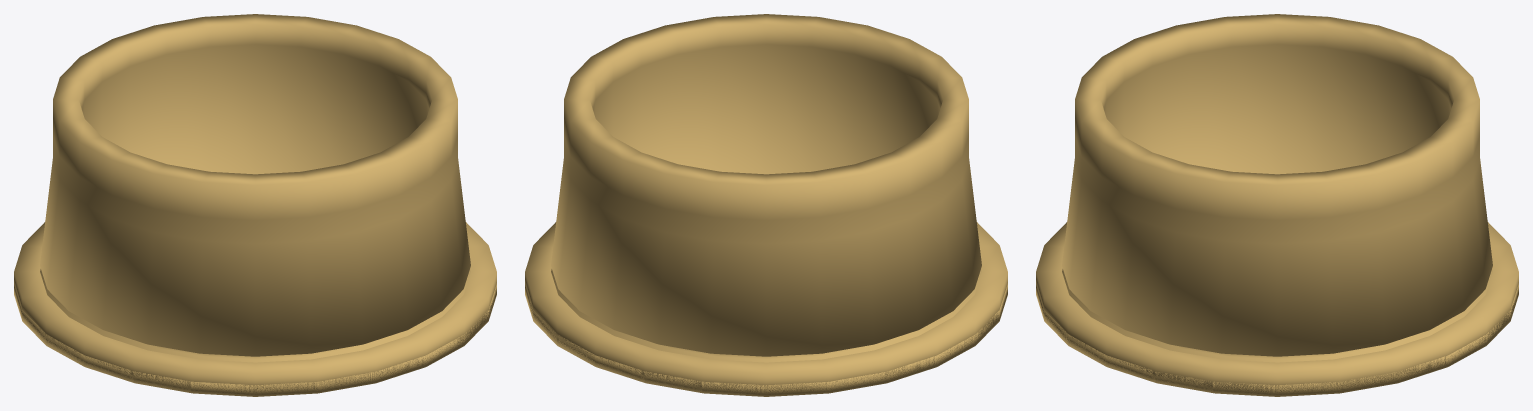
The model's file is pistol-case.glb.
3 renders of one model, left to right at view 1: azimuth 30°, elevation 25°; view 2: azimuth 150°, elevation 25°; view 3: azimuth 270°, elevation 25°, orthographic.
Visible parts, largest first — view 1: open-case-body, case-head; view 2: open-case-body, case-head; view 3: open-case-body, case-head.
Part boxes in pixels (bbox=[...]): open-case-body: bbox=[14, 14, 496, 396]; case-head: bbox=[14, 222, 496, 396]; open-case-body: bbox=[525, 14, 1007, 396]; case-head: bbox=[525, 222, 1007, 396]; open-case-body: bbox=[1036, 14, 1518, 396]; case-head: bbox=[1036, 222, 1518, 396].
Bounding box in the file's own units: 2.24 × 1.01 × 2.24.
